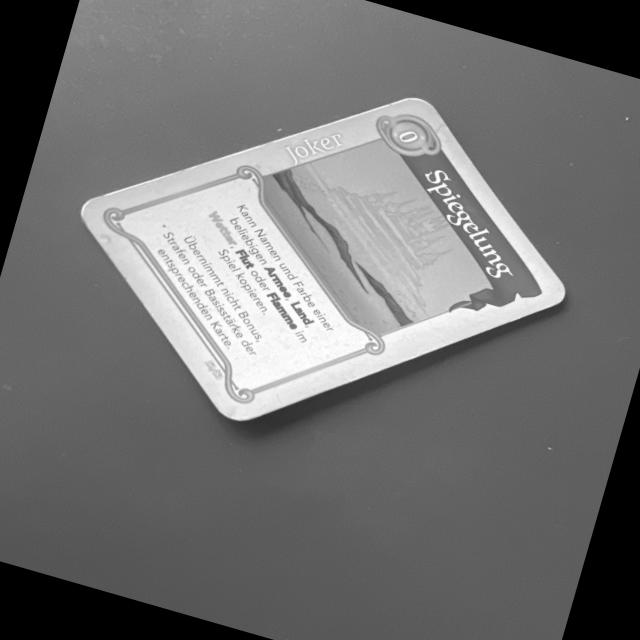Mirage: (76, 88, 570, 427)
